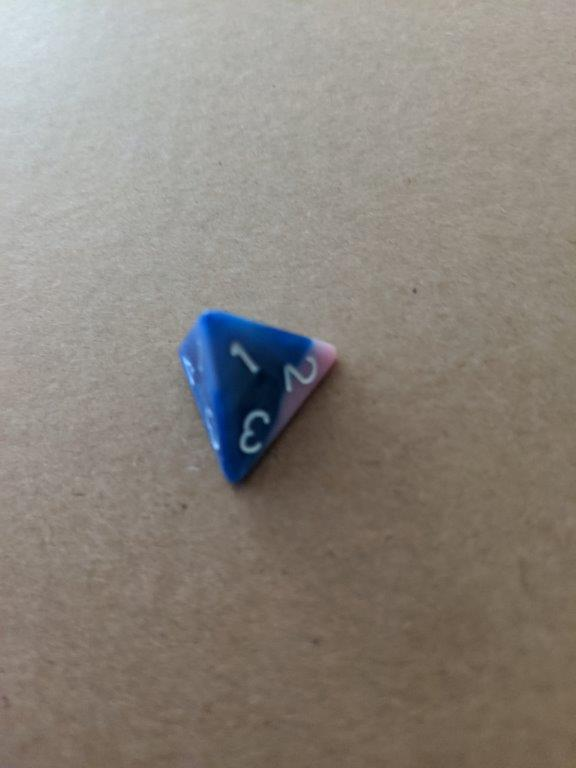d4-1: (166, 305, 346, 491)
